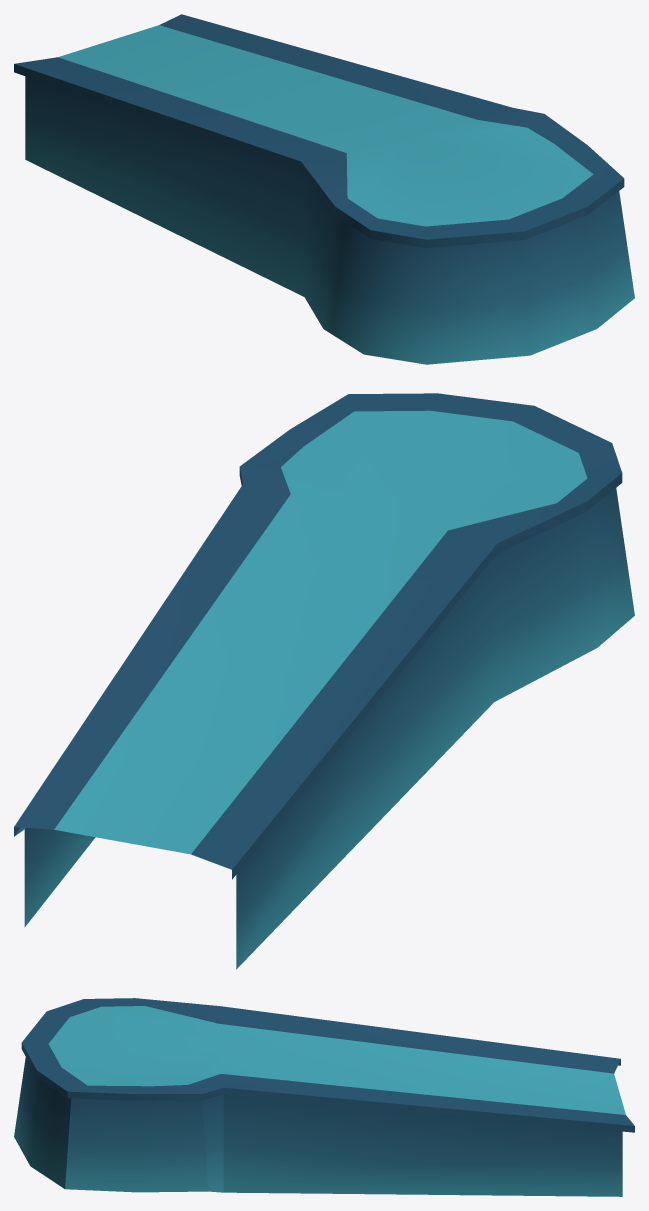
Rendered from Light_House_LV_1.FBX.
3 views of the same model, one above another, from view 1: azimuth 30°, elevation 25°; view 2: azimuth 150°, elevation 25°; view 3: azimuth 270°, elevation 25° (orthographic). The views are drawn at different scales.
Visible parts, largest first — view 1: Lighthouse_LV1; view 2: Lighthouse_LV1; view 3: Lighthouse_LV1.
Part boxes in pixels (<box>): Lighthouse_LV1: <box>14,14,634,364</box>; Lighthouse_LV1: <box>14,393,634,969</box>; Lighthouse_LV1: <box>14,998,634,1196</box>.
Bounding box in the file's own units: 25.46 × 15.47 × 64.15.
